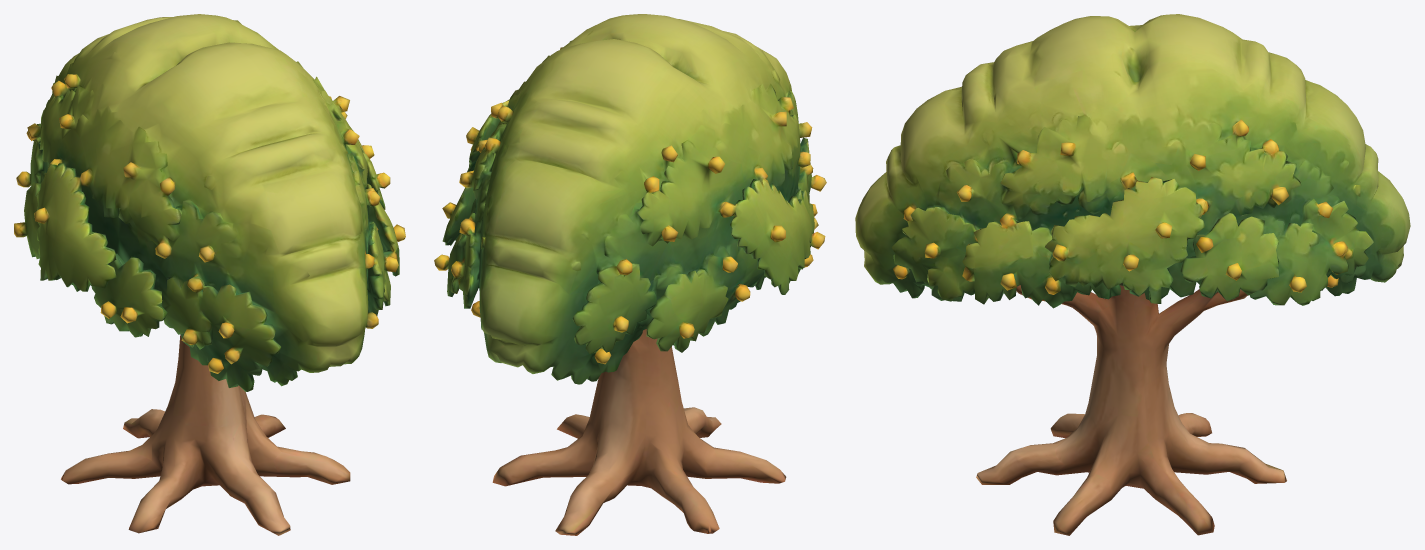
The model's file is fruit_tree.glb.
The picture shows the model from 3 angles, left to right: view 1: azimuth 30°, elevation 25°; view 2: azimuth 150°, elevation 25°; view 3: azimuth 270°, elevation 25°; orthographic projection. The views are drawn at different scales.
Parts seen in each view (by area): view 1: tripo_node_a34bfdbe-afe0-4c12-afb9-f73972b58e47; view 2: tripo_node_a34bfdbe-afe0-4c12-afb9-f73972b58e47; view 3: tripo_node_a34bfdbe-afe0-4c12-afb9-f73972b58e47.
Boxes of the visible parts, x1=… form: tripo_node_a34bfdbe-afe0-4c12-afb9-f73972b58e47: x1=14, y1=14, x2=405, y2=535; tripo_node_a34bfdbe-afe0-4c12-afb9-f73972b58e47: x1=434, y1=14, x2=826, y2=535; tripo_node_a34bfdbe-afe0-4c12-afb9-f73972b58e47: x1=855, y1=14, x2=1410, y2=535.
Size of the model in its own units: 1.92 by 2.5 by 2.78.
Materials: 1 (1 with a texture image).
